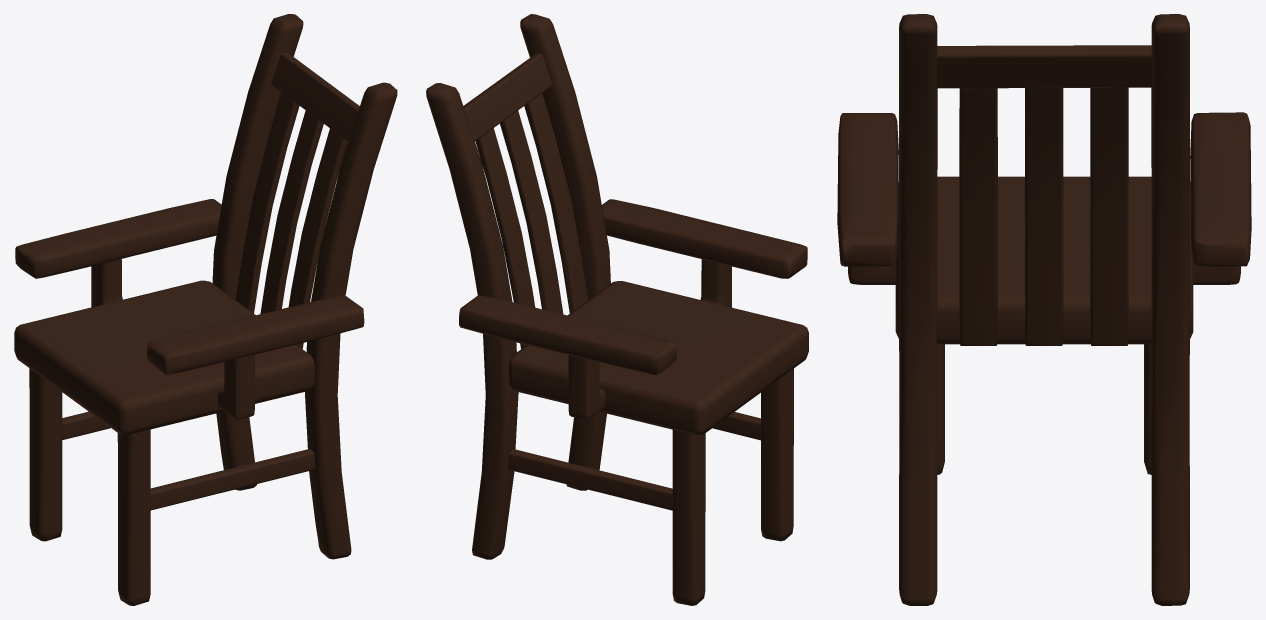
Rendered from chair_08_wooden_dark.fbx.
3 renders of one model, left to right at view 1: azimuth 30°, elevation 25°; view 2: azimuth 150°, elevation 25°; view 3: azimuth 270°, elevation 25°, orthographic. The views are drawn at different scales.
Parts seen in each view (by area): view 1: chair_08_wooden_dark; view 2: chair_08_wooden_dark; view 3: chair_08_wooden_dark.
Part boxes in pixels (x1,y1,x2,y2): chair_08_wooden_dark: [14, 14, 397, 605]; chair_08_wooden_dark: [426, 14, 808, 605]; chair_08_wooden_dark: [837, 14, 1251, 605].
Size of the model in its own units: 67.91 by 106 by 64.81.
Materials: 1 (1 with a texture image).
